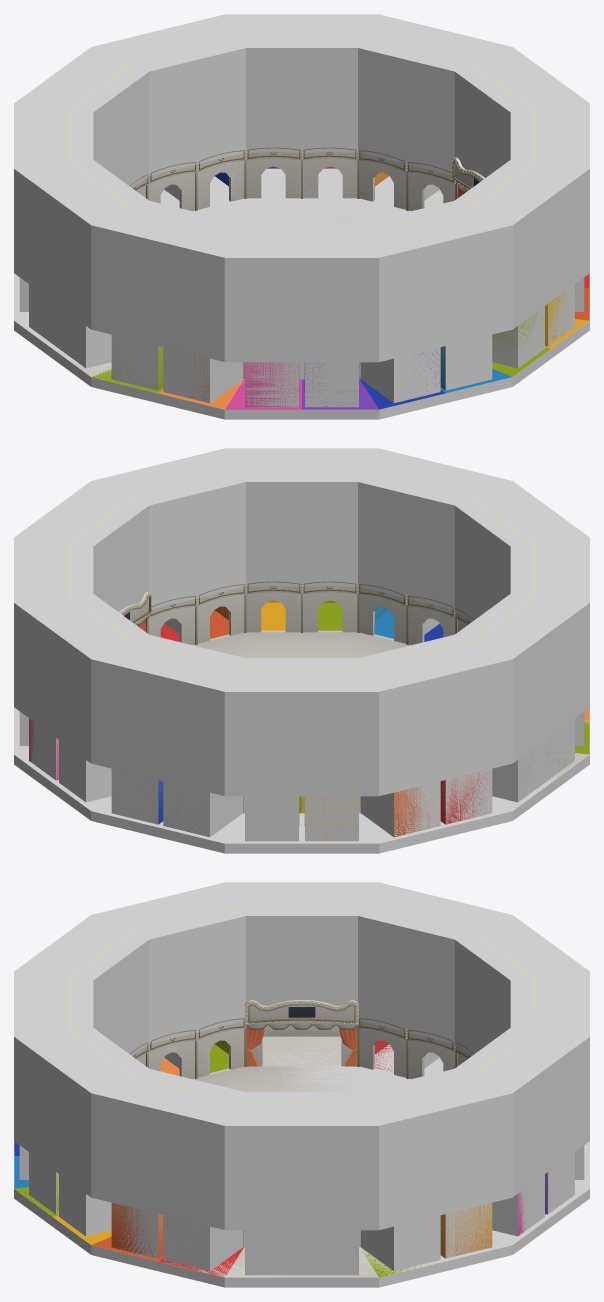
Rendered from squidgame_background_map6_Wall.fbx.
3 renders of one model, top to bottom at view 1: azimuth 30°, elevation 25°; view 2: azimuth 150°, elevation 25°; view 3: azimuth 270°, elevation 25°, orthographic.
Parts seen in each view (by area): view 1: squidgame_background_map6_Wall_col, squidgame_background_map6_Wall; view 2: squidgame_background_map6_Wall_col, squidgame_background_map6_Wall; view 3: squidgame_background_map6_Wall_col, squidgame_background_map6_Wall.
Part boxes in pixels (x1,y1,x2,y2): squidgame_background_map6_Wall_col: [14, 14, 589, 419]; squidgame_background_map6_Wall: [67, 37, 589, 409]; squidgame_background_map6_Wall_col: [14, 448, 589, 853]; squidgame_background_map6_Wall: [29, 471, 589, 840]; squidgame_background_map6_Wall_col: [14, 882, 589, 1287]; squidgame_background_map6_Wall: [14, 905, 548, 1277].
Bounding box in the file's own units: 36.85 × 11.42 × 36.85.
